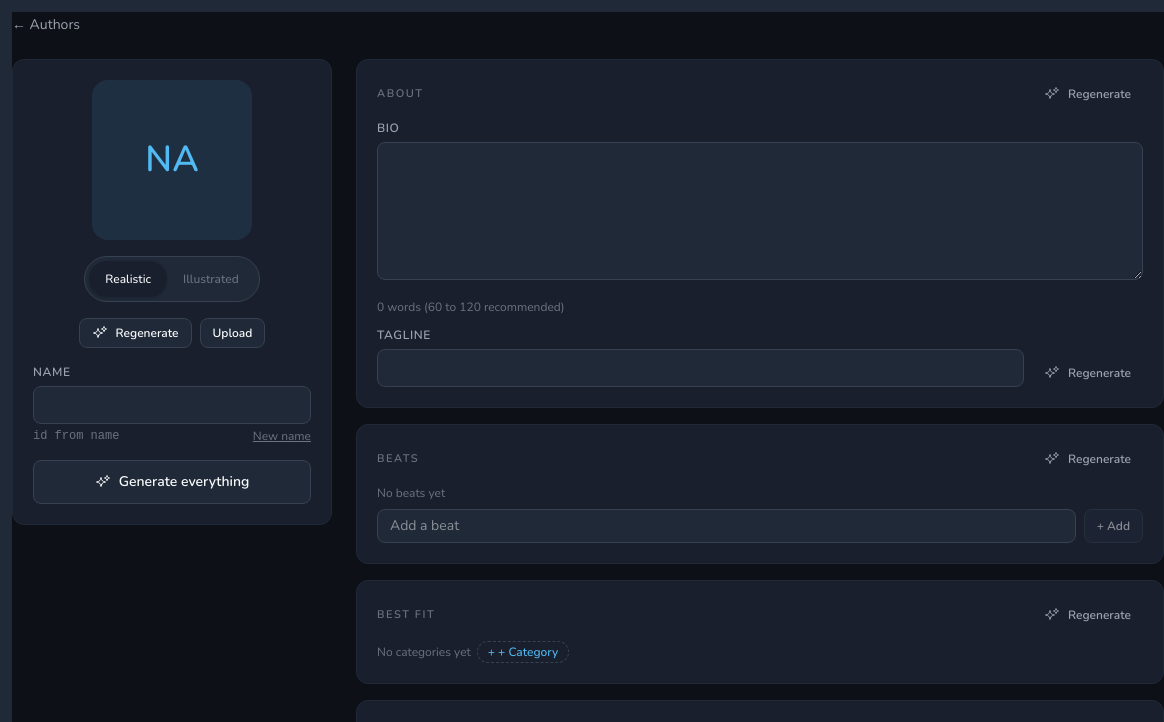
Scenario: AuthorProfileEditor › Generate everything shows a checklist of parts
Click the button "Generate everything" at x=172, y=482, box [33,460,311,504]
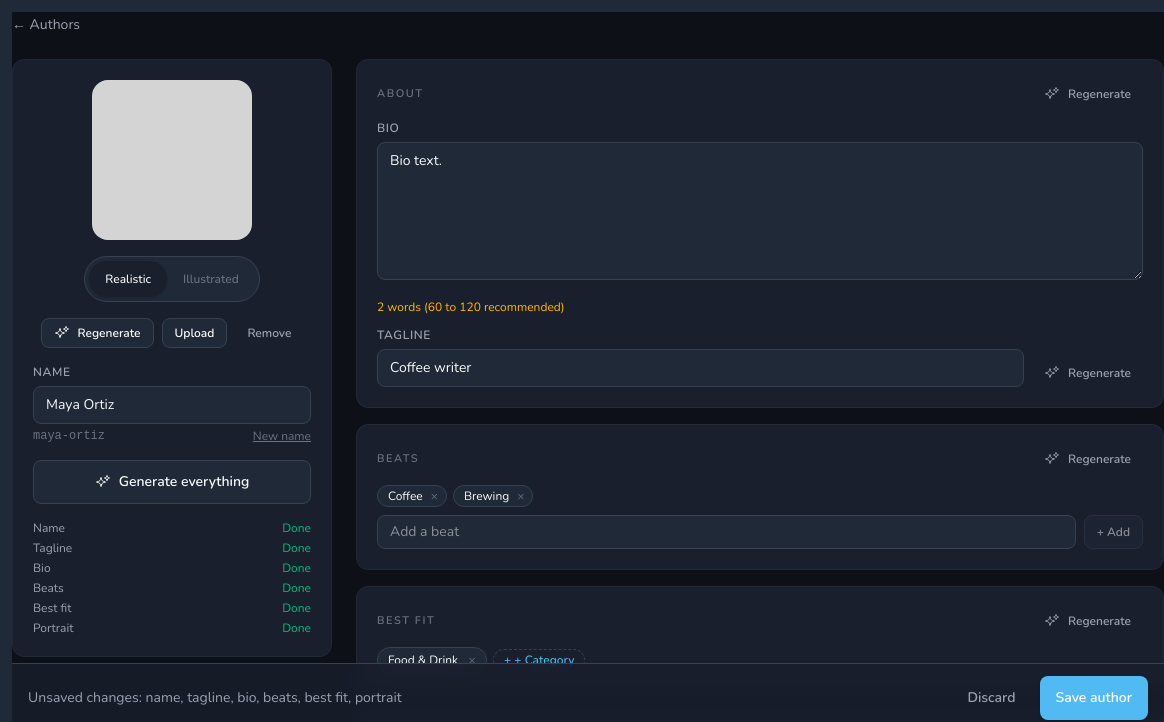
Check: the text "Done" is shown 6 times, box [282,520,311,536]; [282,540,311,556]; [282,560,311,576]; [282,580,311,596]; [282,600,311,616]; [282,620,311,636]
Check: the field showing "Maya Ortiz" is shown, box [33,386,311,424]
